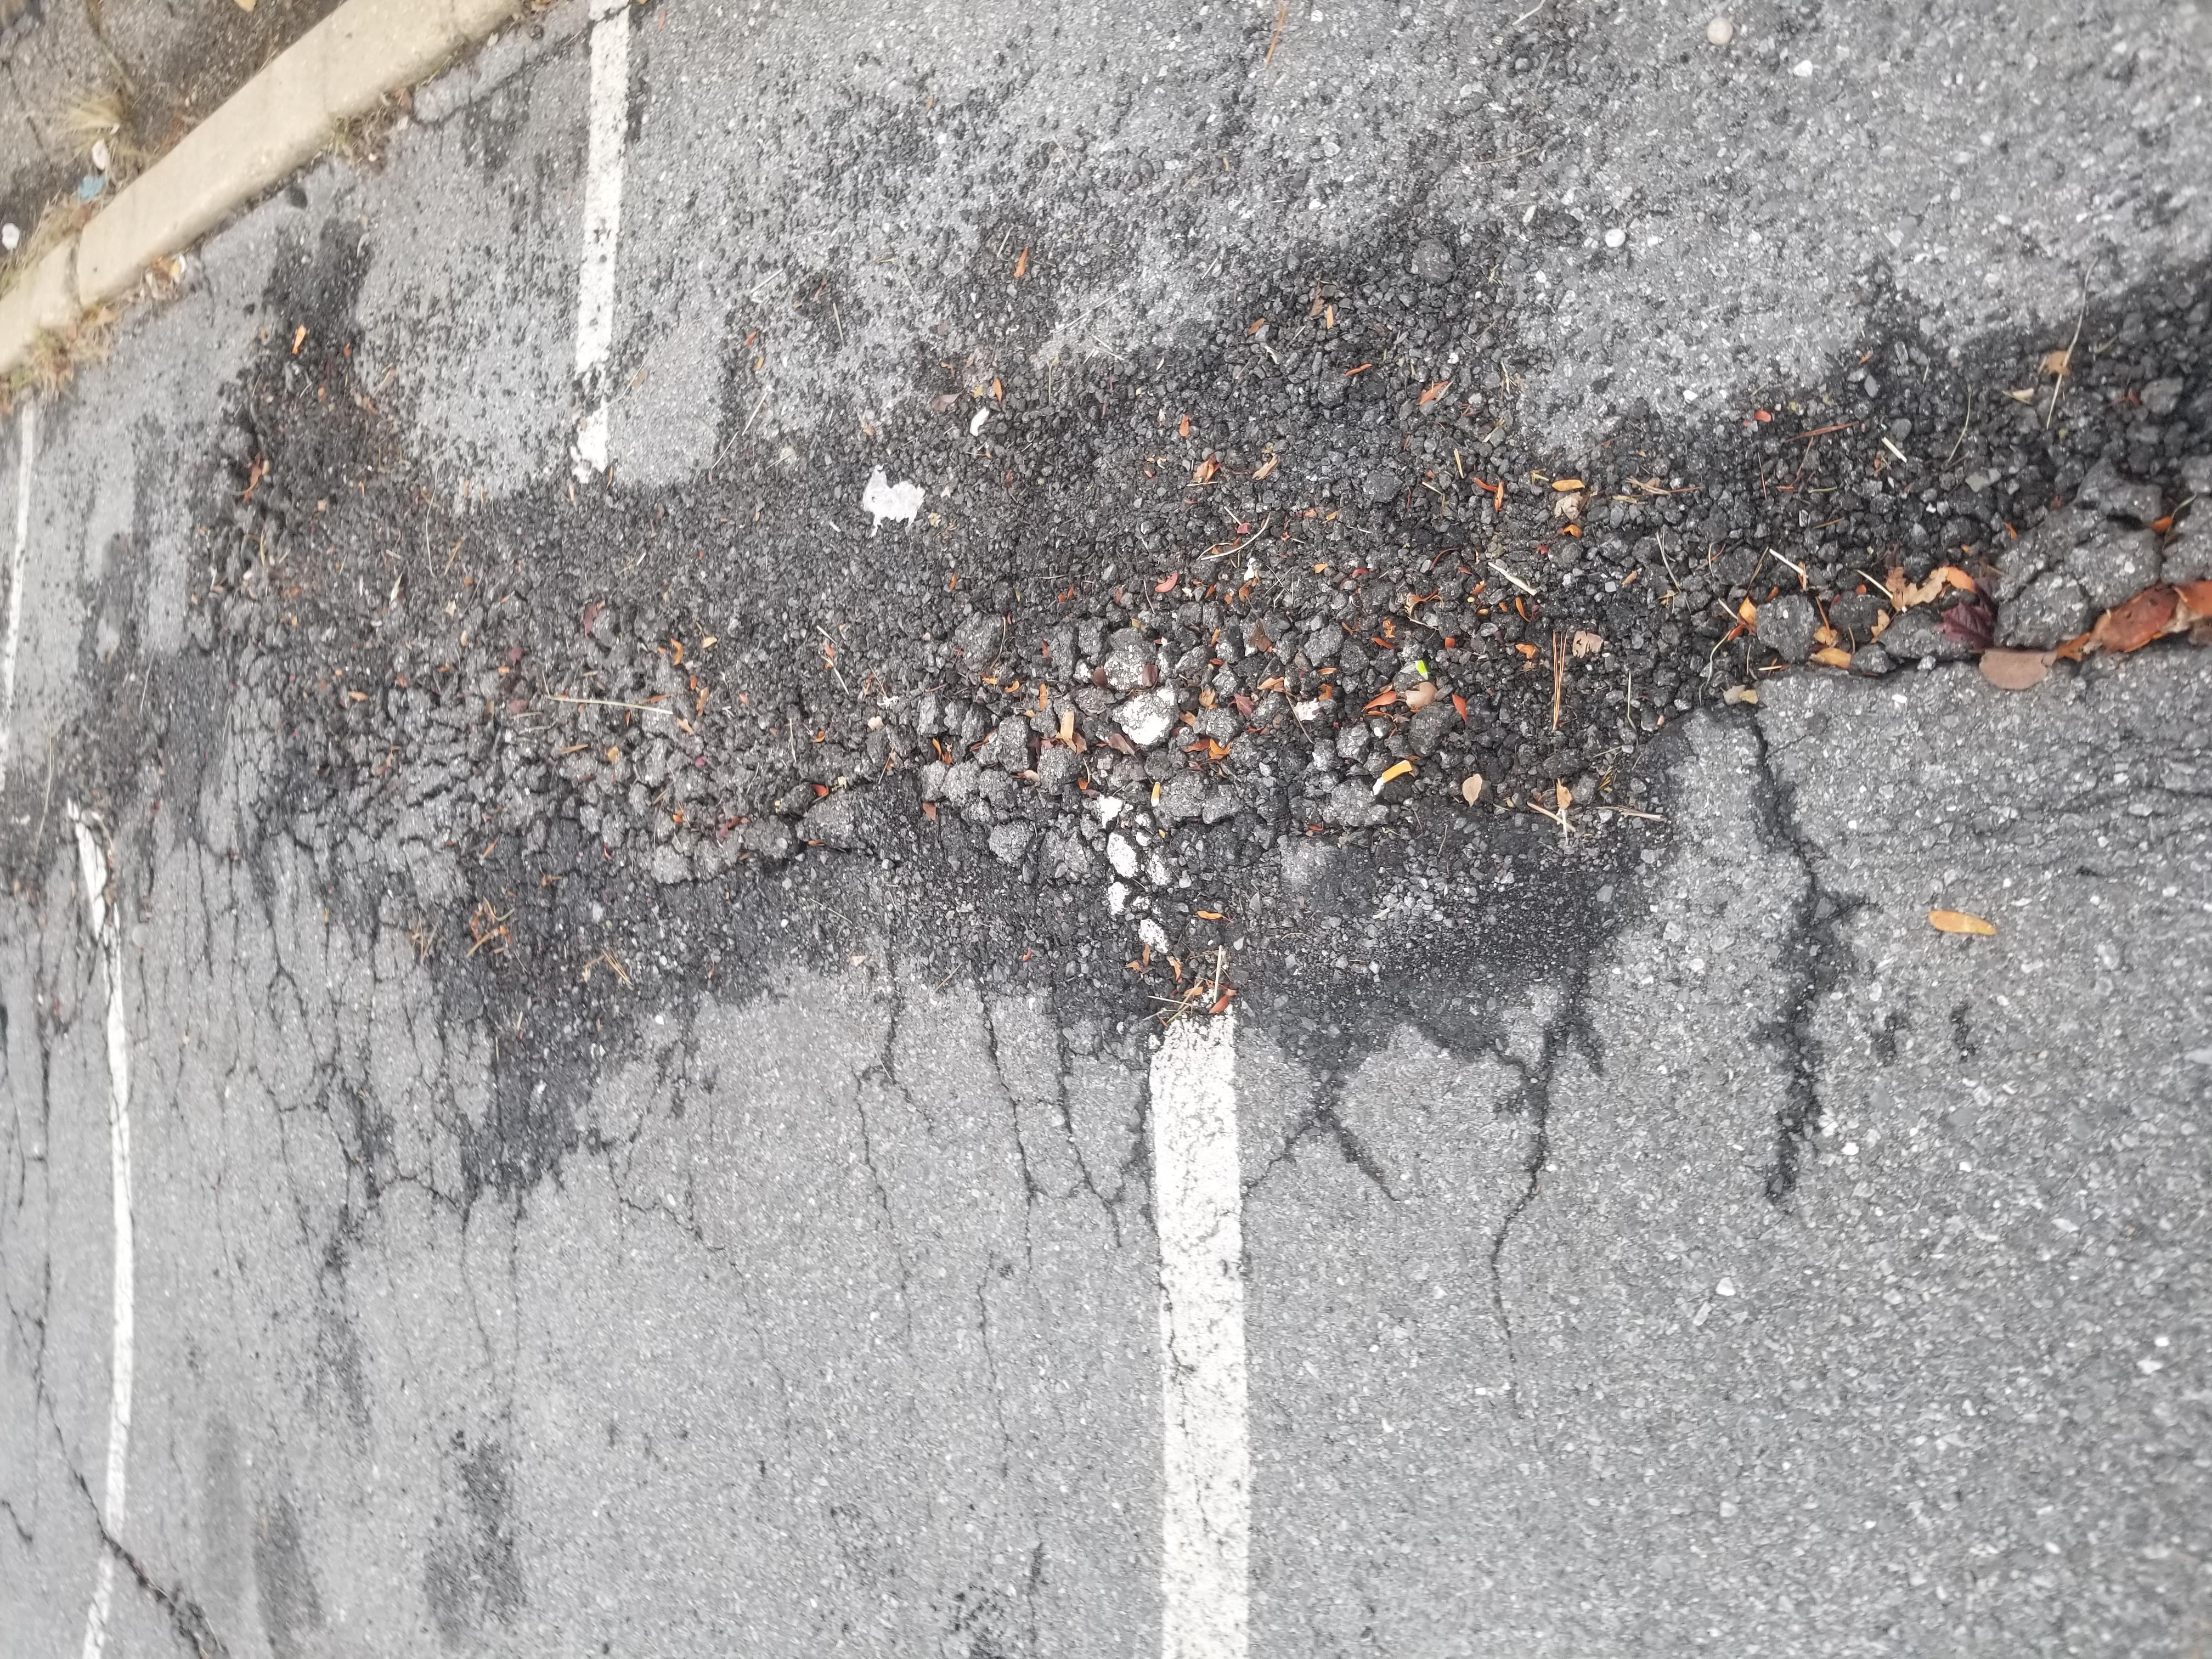alligator-crack: (644, 124, 1895, 1497)
